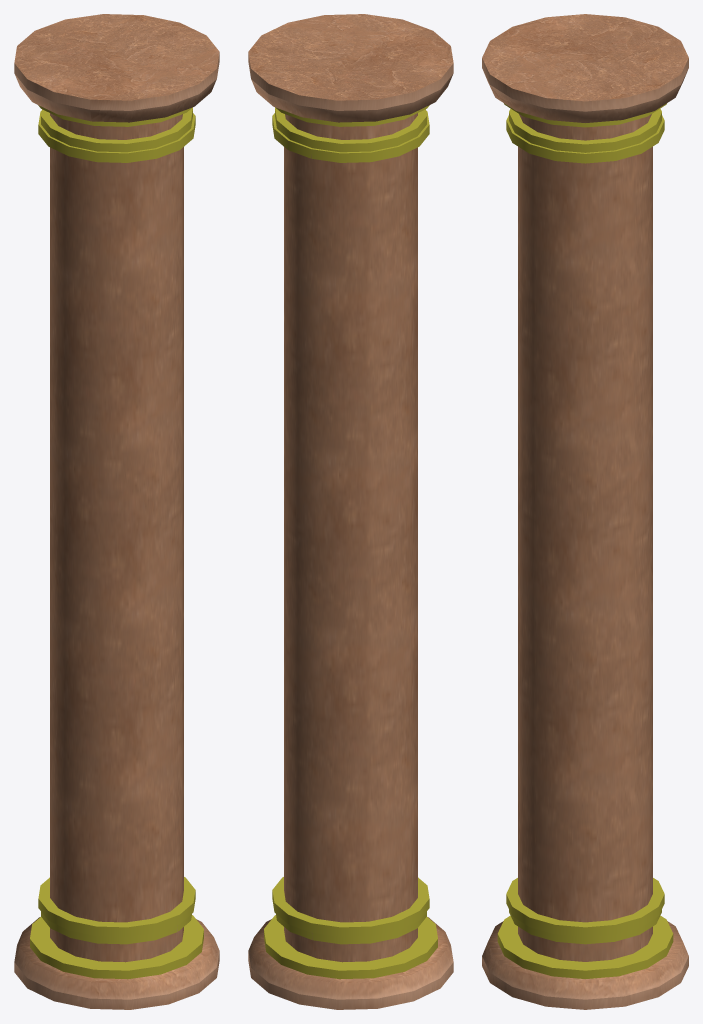
The model's file is Columna3.fbx.
3 views of the same model, side by side, from view 1: azimuth 30°, elevation 25°; view 2: azimuth 150°, elevation 25°; view 3: azimuth 270°, elevation 25° (orthographic).
Visible parts, largest first — view 1: Cylinder; view 2: Cylinder; view 3: Cylinder.
Part boxes in pixels (bbox=[...]): Cylinder: bbox=[14, 14, 219, 1009]; Cylinder: bbox=[248, 14, 453, 1009]; Cylinder: bbox=[482, 14, 688, 1009].
Bounding box in the file's own units: 395 × 1912 × 395.
1 material, 1 textured.
